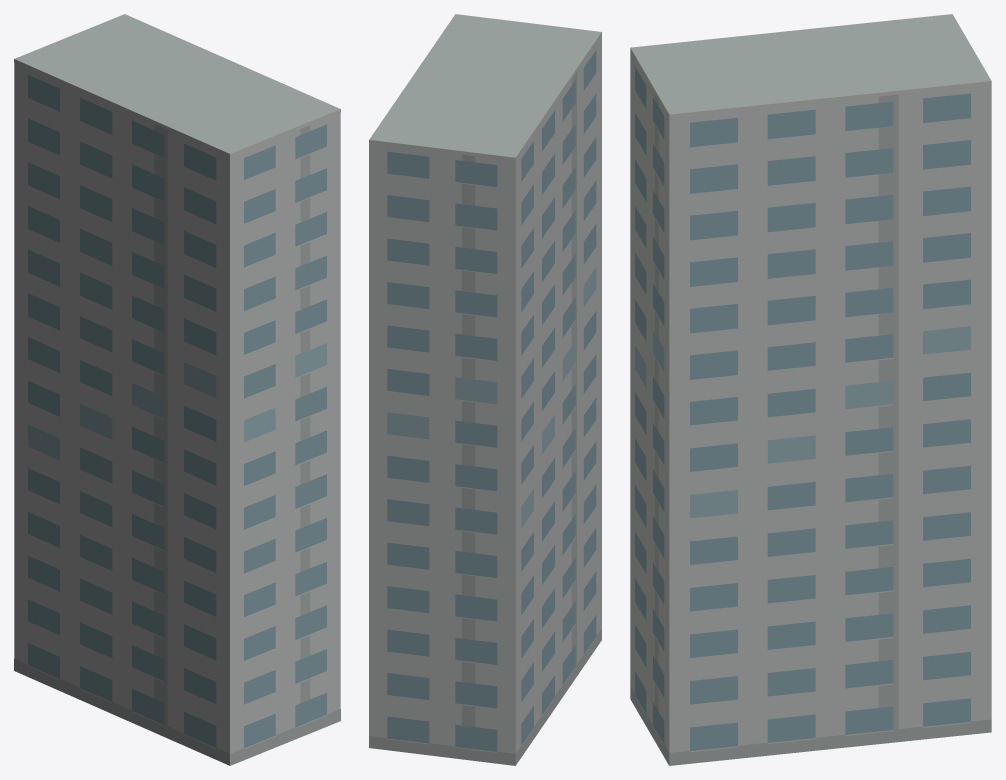
File: residential-55799f39-1cd0-4d91-a133-71f465ce1f38.glb
3 renders of one model, left to right at view 1: azimuth 30°, elevation 25°; view 2: azimuth 150°, elevation 25°; view 3: azimuth 270°, elevation 25°, orthographic. The views are drawn at different scales.
Parts seen in each view (by area): view 1: residential-55799f39-1cd0-4d91-a133-71f465ce1f38.tmp; view 2: residential-55799f39-1cd0-4d91-a133-71f465ce1f38.tmp; view 3: residential-55799f39-1cd0-4d91-a133-71f465ce1f38.tmp.
Part boxes in pixels (x1,y1,x2,y2): residential-55799f39-1cd0-4d91-a133-71f465ce1f38.tmp: (14,14,340,765); residential-55799f39-1cd0-4d91-a133-71f465ce1f38.tmp: (369,14,601,765); residential-55799f39-1cd0-4d91-a133-71f465ce1f38.tmp: (630,14,991,765).
Bounding box in the file's own units: 13.92 × 42 × 21.13.
